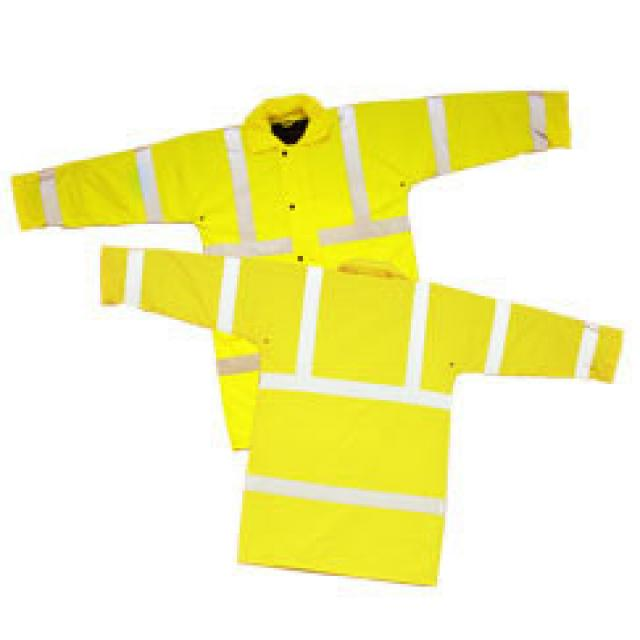Reflective-Jacket: (29, 80, 576, 457), (79, 239, 629, 595)
